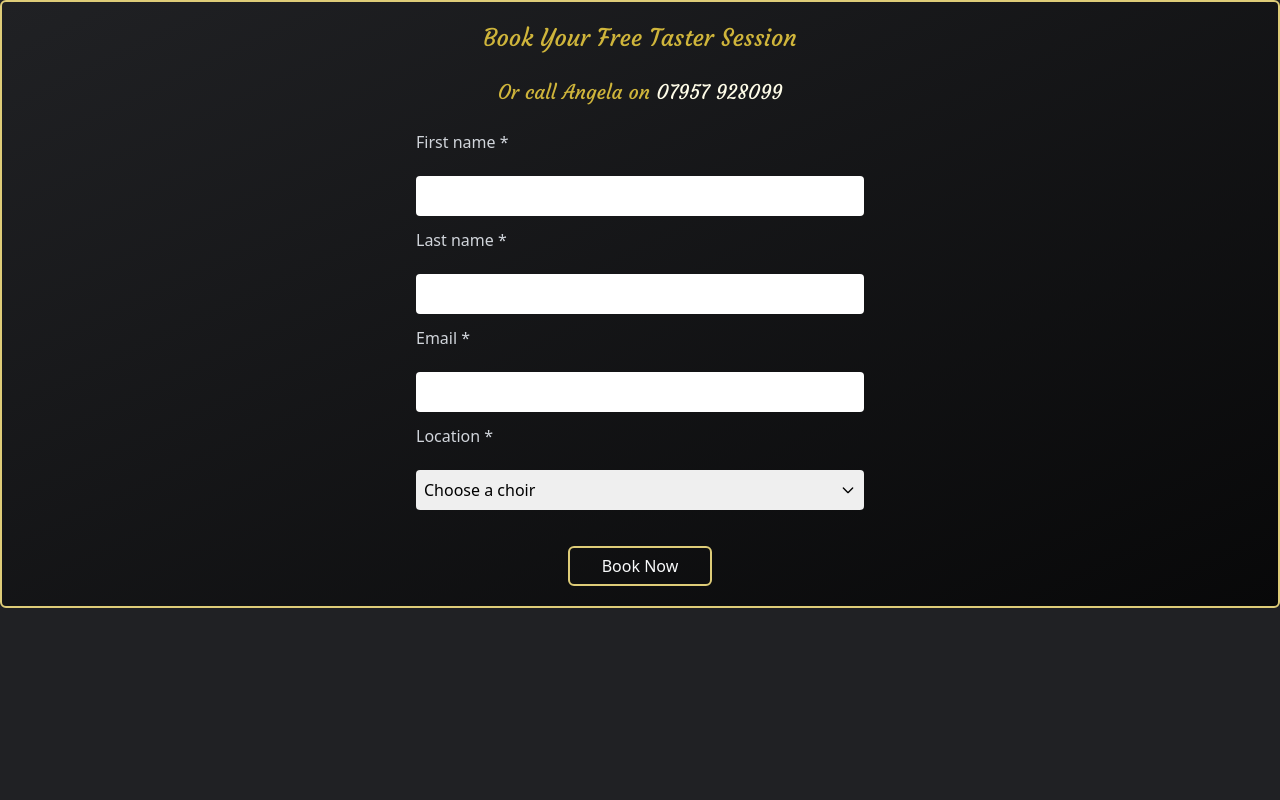
should display the correct error message when the user request to book a session is rejected
Type "John" into the field labelled "First name *" at (640,196), box [416,176,864,216]
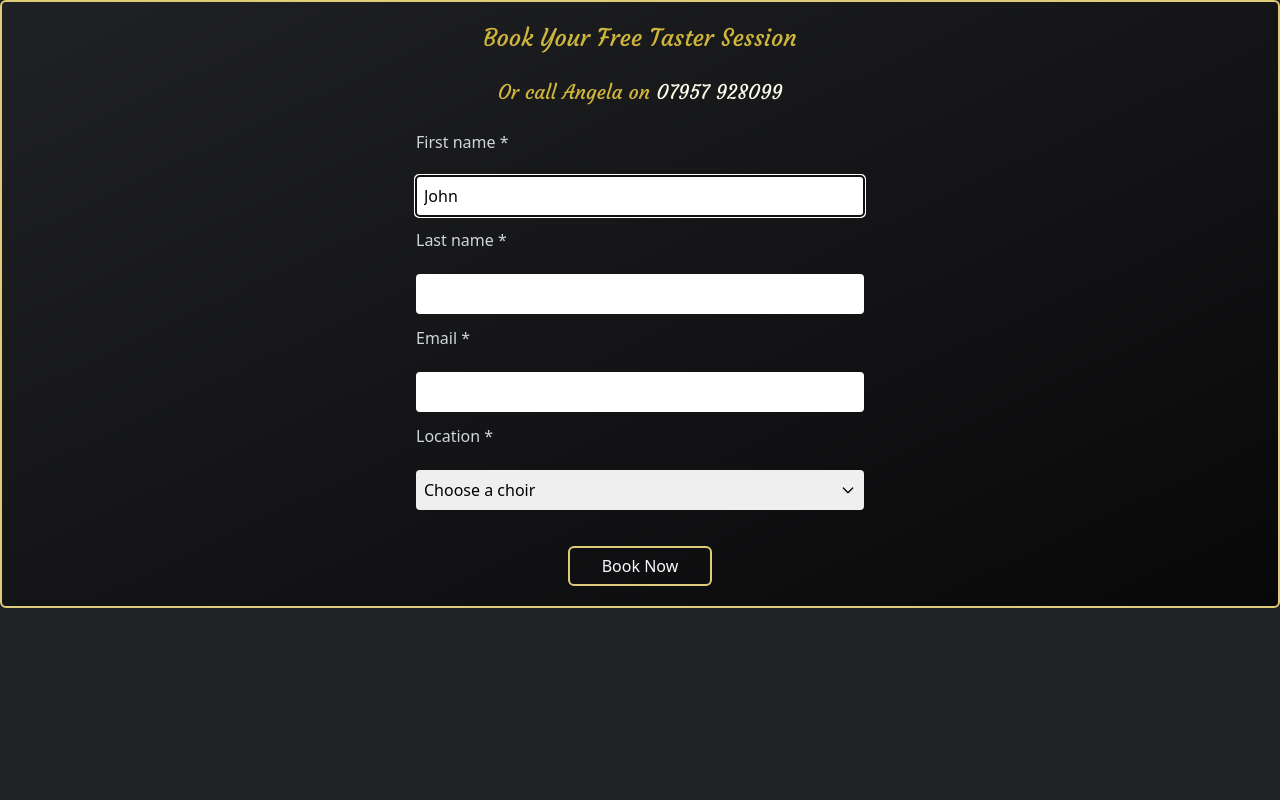
Type "Smith" into the field labelled "Last name *" at (640,294), box [416,274,864,314]
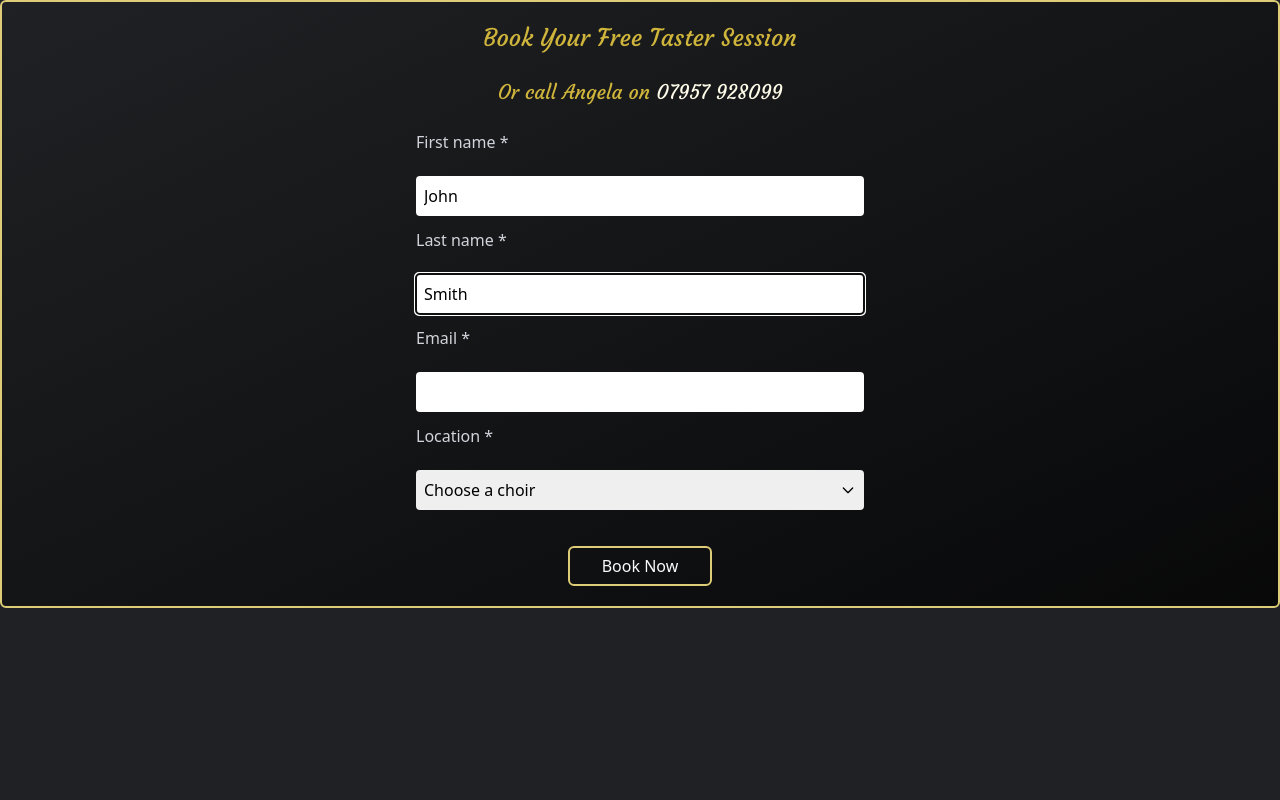
Type "john@example.com" into the field labelled "Email *" at (640,392), box [416,372,864,412]
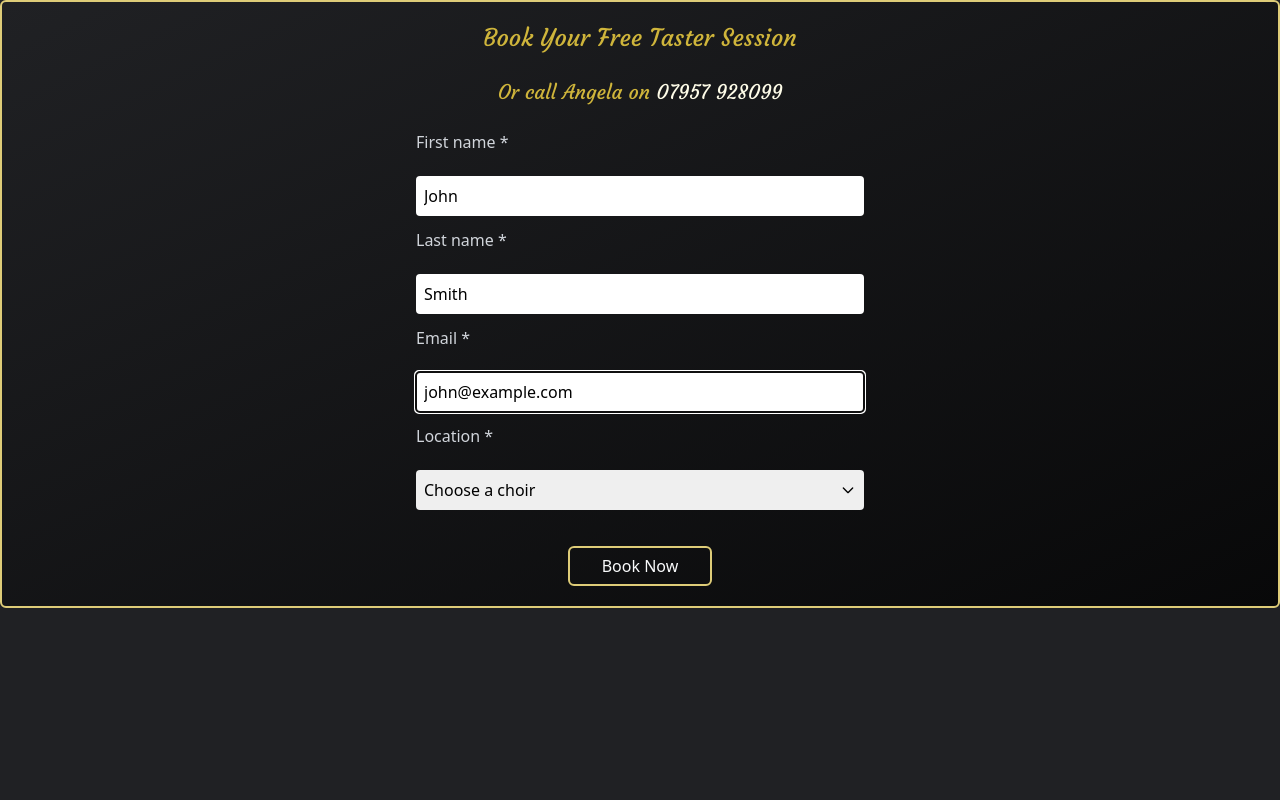
Select "Banstead" in the dropdown labelled "Location *" at (640,490), box [416,470,864,510]
(page scrolled)
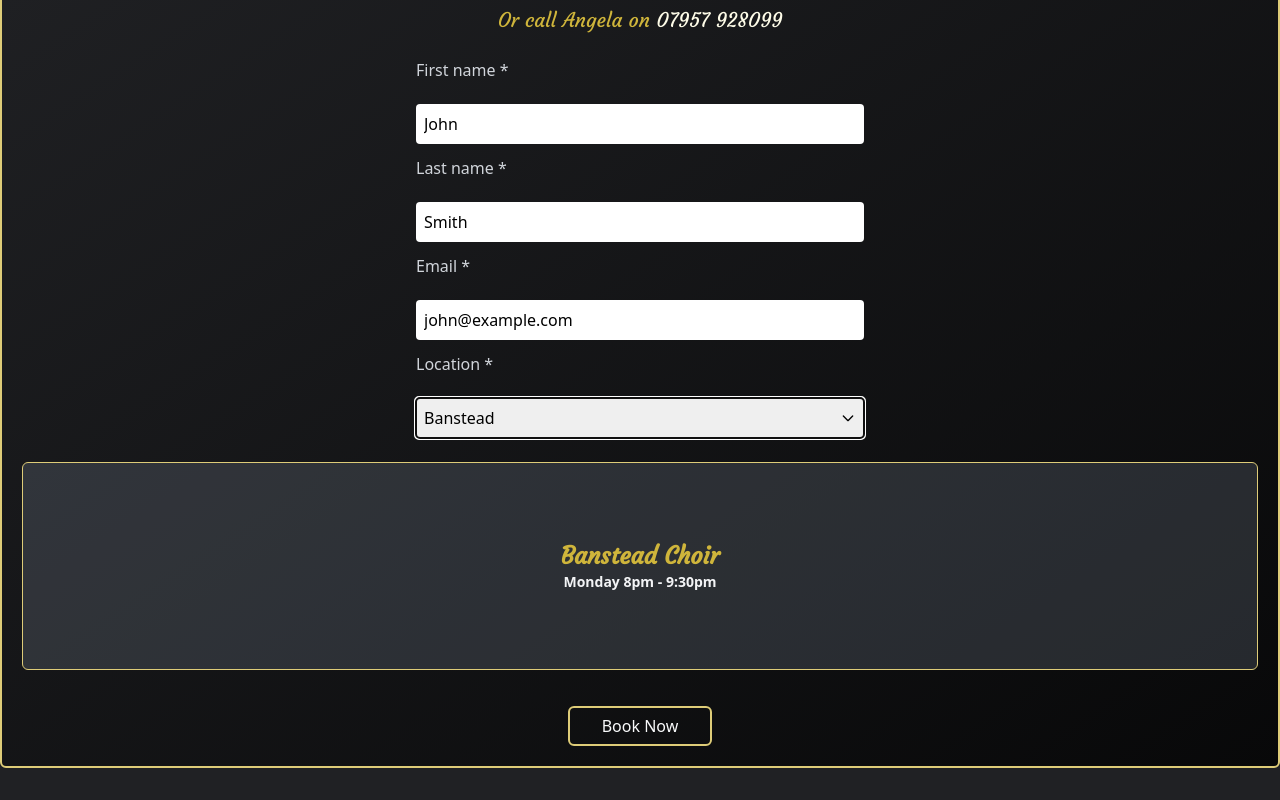
Click the button "Book Now" at (640,726), box [568,706,712,746]
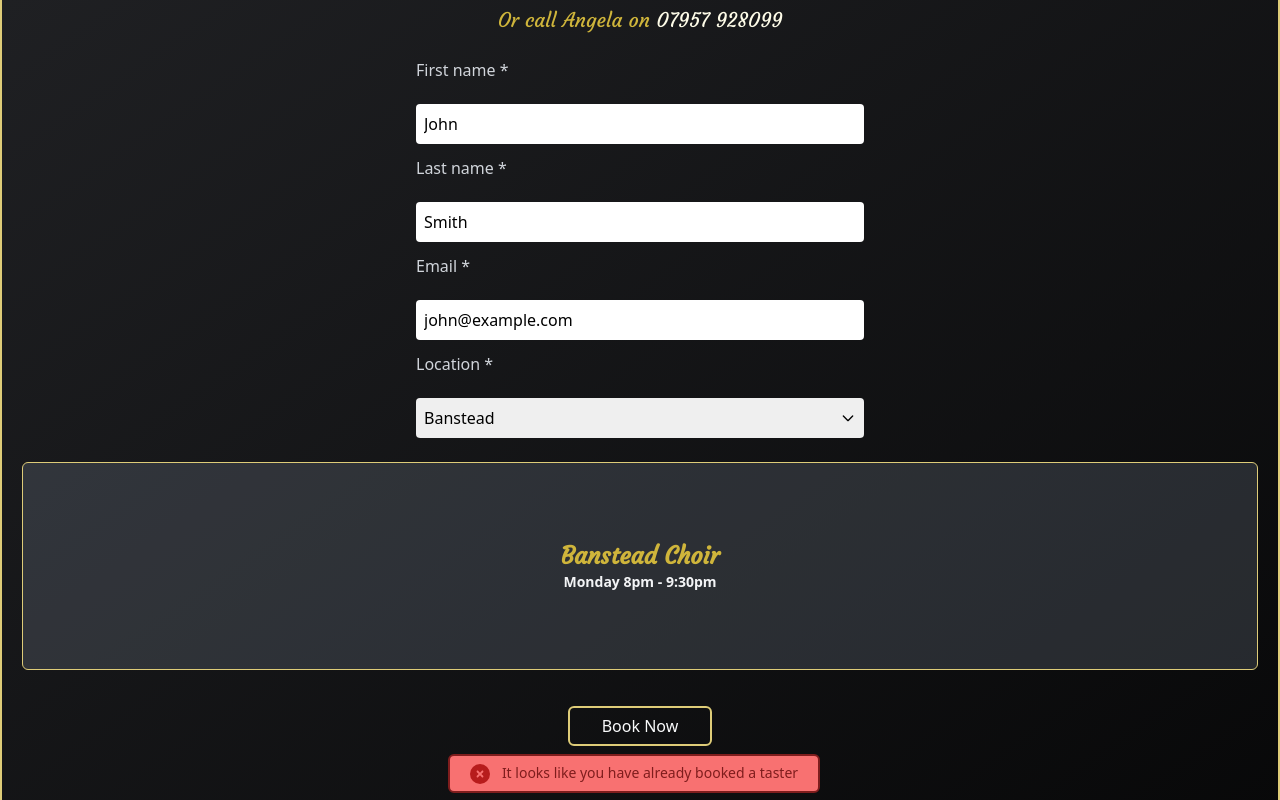
Check: the text "It looks like you have already booked a taster" is shown, box [502,763,798,782]
